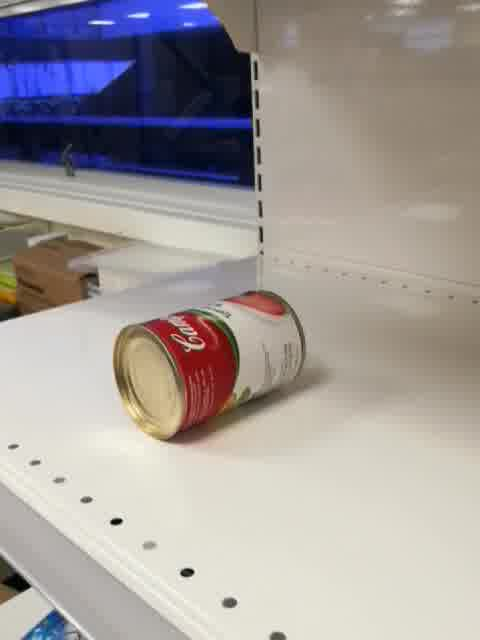tomatosoup: (110, 288, 307, 444)
